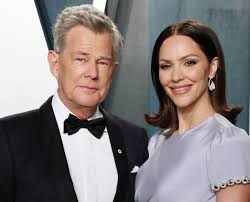no_mask: (45, 4, 123, 116), (148, 19, 224, 113)
